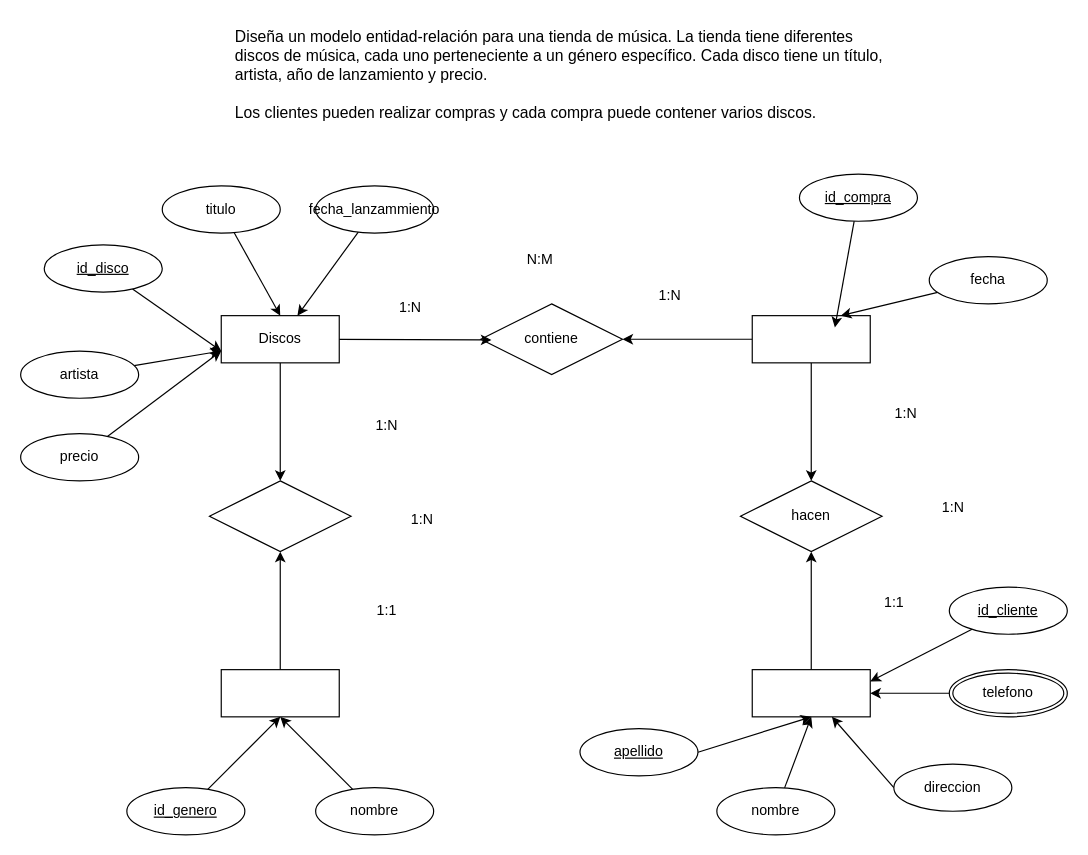
The diagram is 1088 pixels wide and 855 high, and some of its shapes have lost their labels. The centre of each missing label's shape, as x and y in pixels:
"Clientes" goes at [810,692].
"Compras" goes at [810,338].
"Genero" goes at [279,692].
"pertenece" goes at [279,516].
